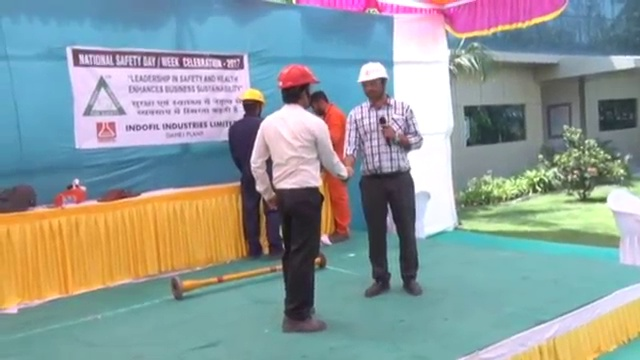helmet: (274, 62, 322, 88), (354, 61, 391, 83), (239, 86, 267, 105)
helmet_off: (307, 88, 333, 114)
helmet_on: (274, 62, 322, 111), (354, 61, 392, 108), (236, 84, 268, 121)
person: (249, 61, 348, 336), (345, 62, 425, 297), (224, 85, 286, 257), (307, 86, 354, 244)
